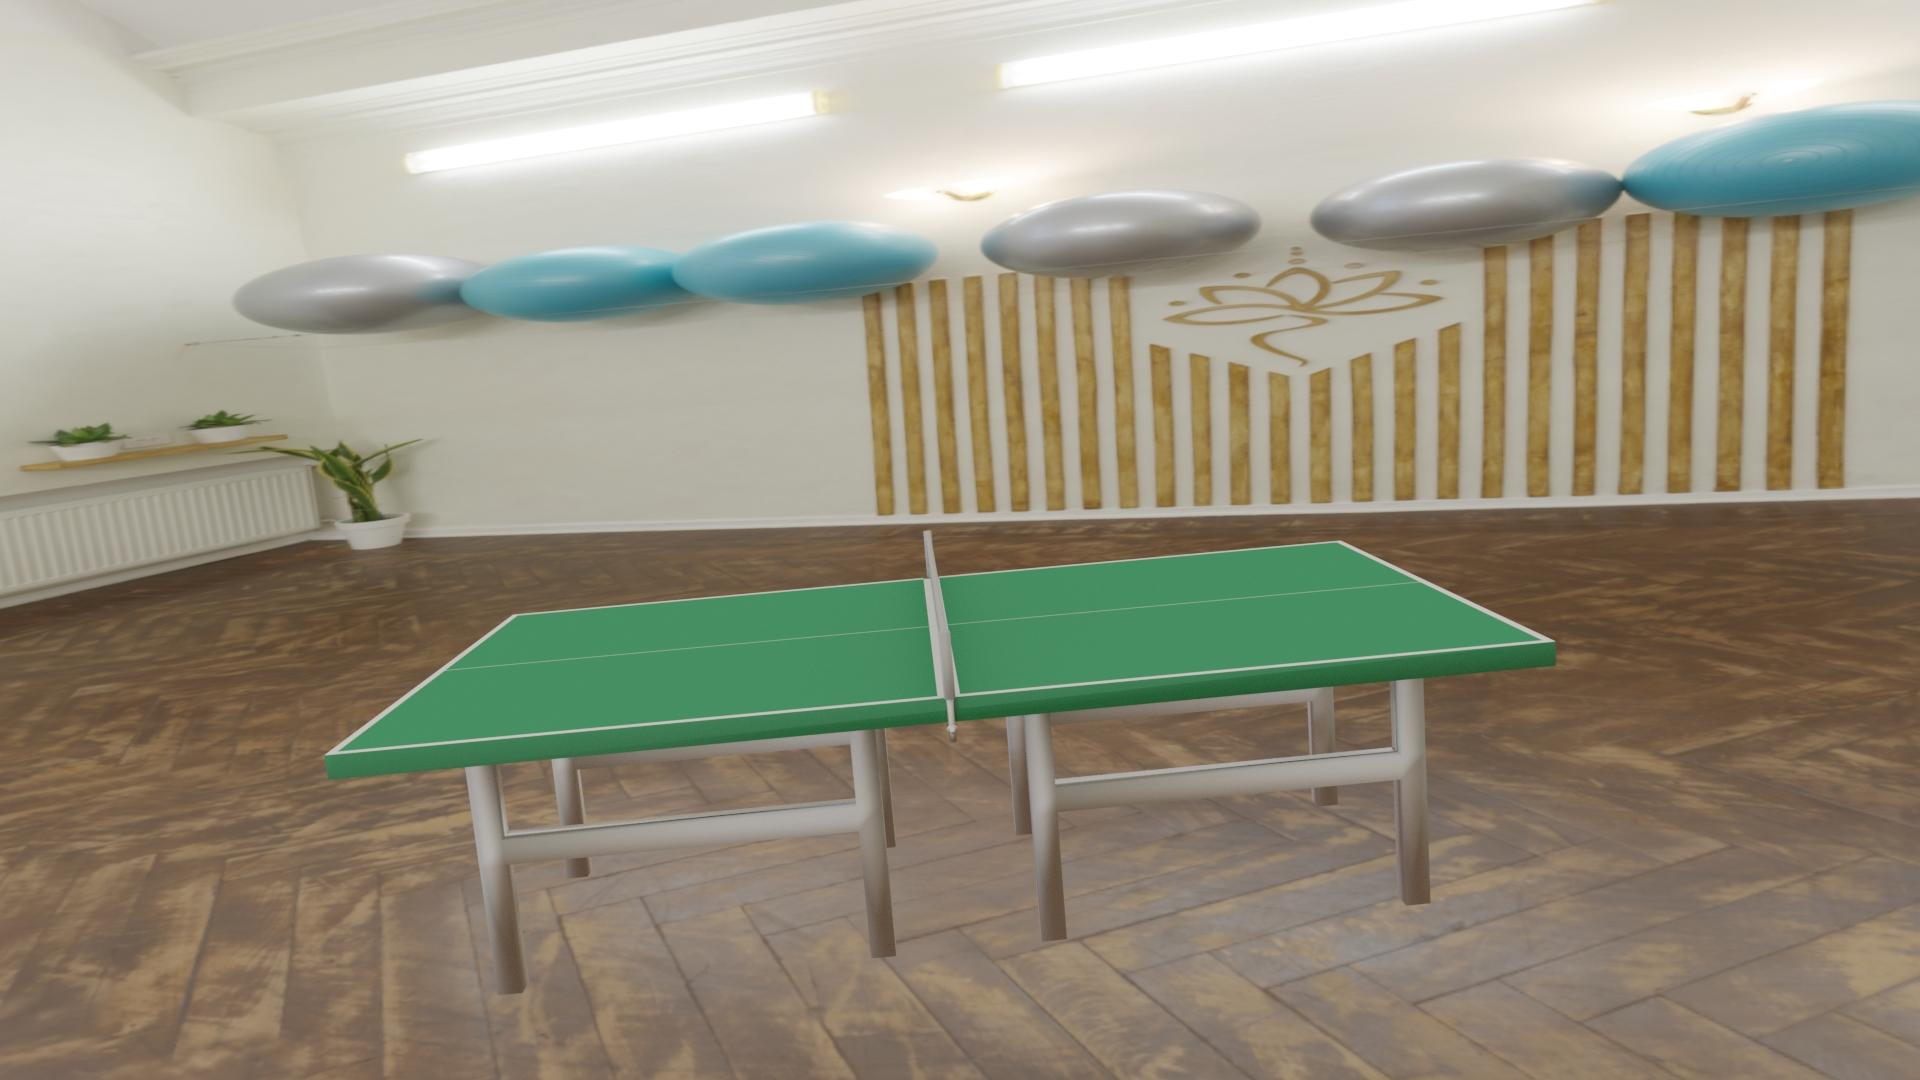table: (338, 542, 1543, 752)
